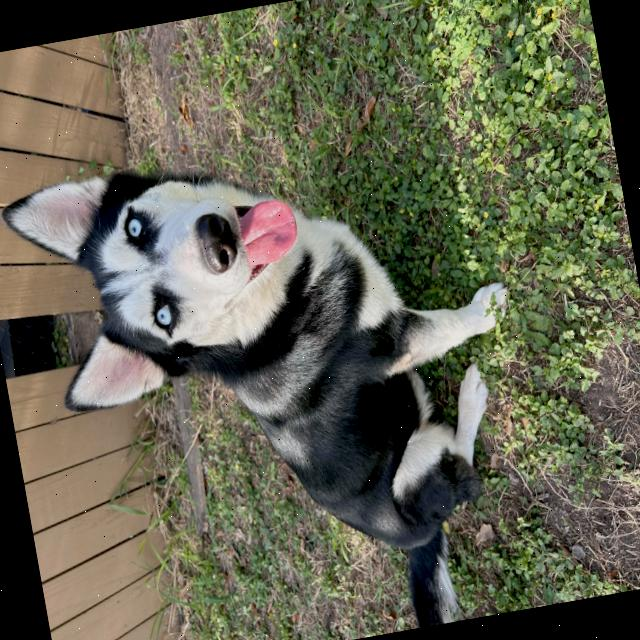siberian_husky_dog: (0, 124, 341, 436)
